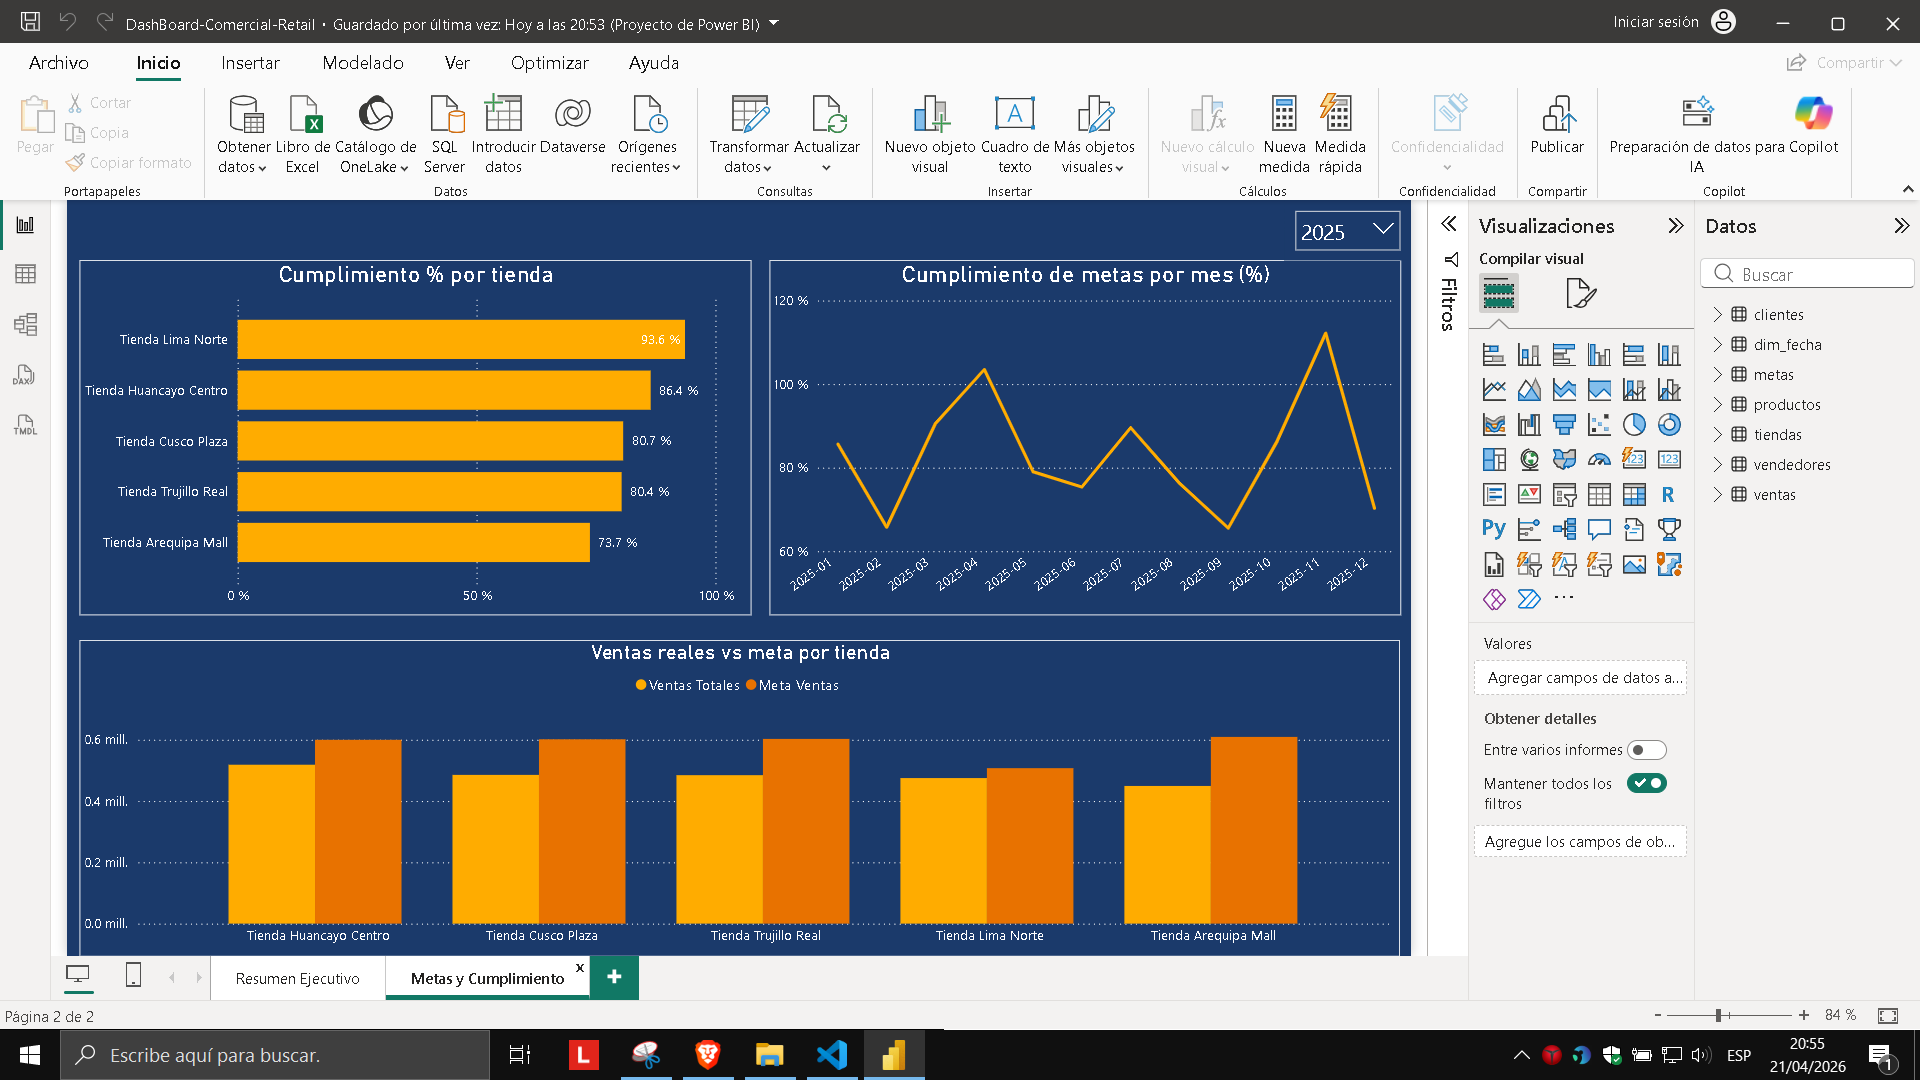

This screenshot's page, from the dashboard's own definition file:
{"tool":"powerbi","page":{"name":"Metas y Cumplimiento","canvas":[1280,720],"ordinal":1},"visuals":[{"type":"barChart","fields":{"Category":["tiendas.tienda"],"Y":["ventas.Cumplimiento %"]},"box":[12.5,57.5,640,338.8],"z":0},{"type":"lineChart","title":"Cumplimiento de metas por mes (%)","fields":{"Category":["dim_fecha.periodo"],"Y":["ventas.Cumplimiento %"]},"box":[668.8,57.5,601.2,338.8],"z":1000},{"type":"slicer","fields":{"Values":["dim_fecha.anio"]},"box":[1160,0,120,57.5],"z":2000},{"type":"clusteredColumnChart","title":"Ventas reales vs meta por tienda","fields":{"Category":["tiendas.tienda"],"Y":["ventas.Ventas Totales","metas.Meta Ventas"]},"box":[12.5,418.8,1257.5,301.2],"z":3000}]}

Visuals, with their boxes on the page's 1280x720 design canvas (x1, y1, x2, y2). These are canvas units, not pixel positions in the 1920x1080 screenshot, which may show the page scaled, cropped or inside an application window:
barChart - tiendas.tienda x ventas.Cumplimiento %: (left=12, top=58, right=652, bottom=396)
"Cumplimiento de metas por mes (%)" lineChart: (left=669, top=58, right=1270, bottom=396)
slicer - dim_fecha.anio: (left=1160, top=0, right=1280, bottom=58)
"Ventas reales vs meta por tienda" clusteredColumnChart: (left=12, top=419, right=1270, bottom=720)
